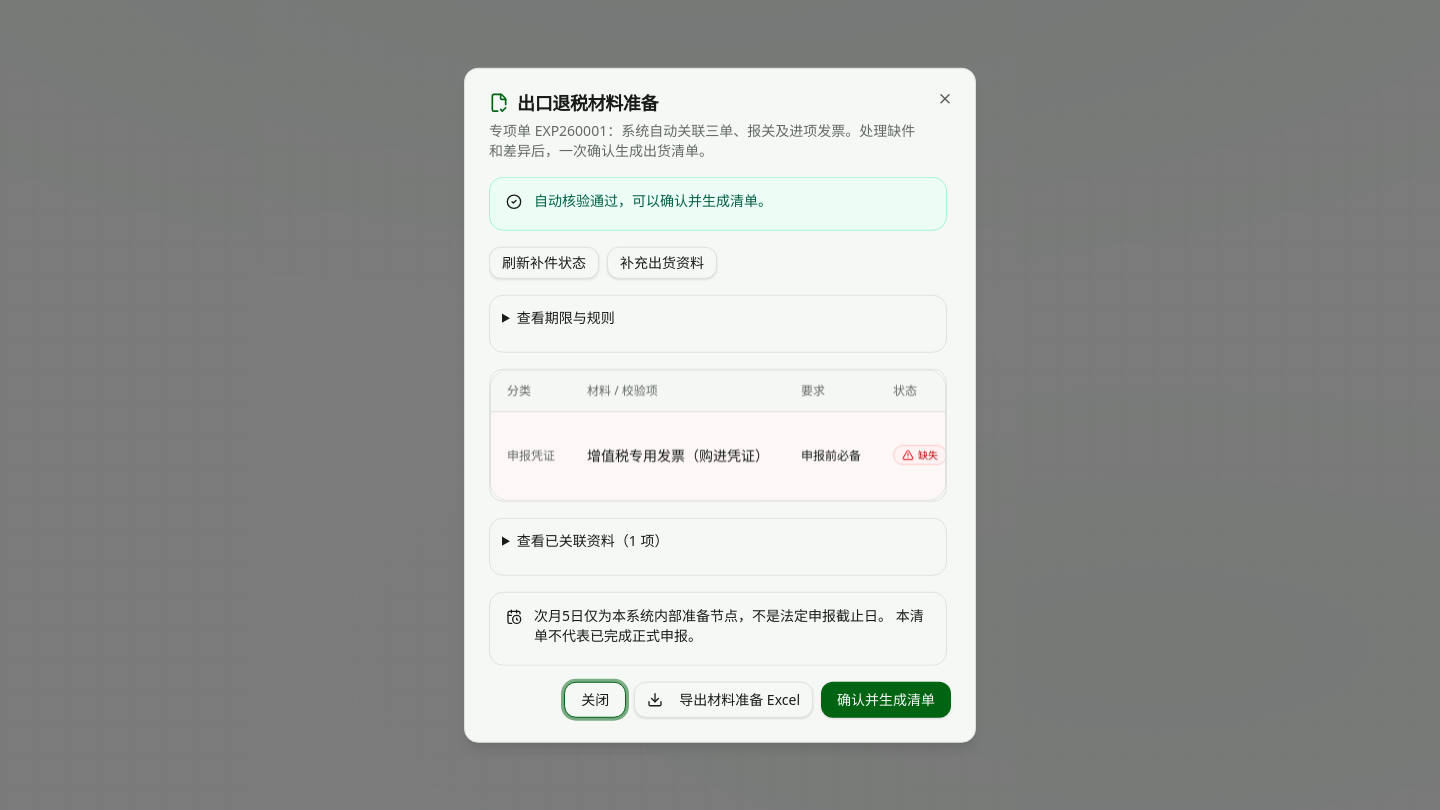
TaxRefundPreparationDialog › 自动核验通过后一次确认并下载；回传版本防止确认旧资料
Click the button "确认并生成清单" at (886, 699), box left=821, top=681, right=951, bottom=717
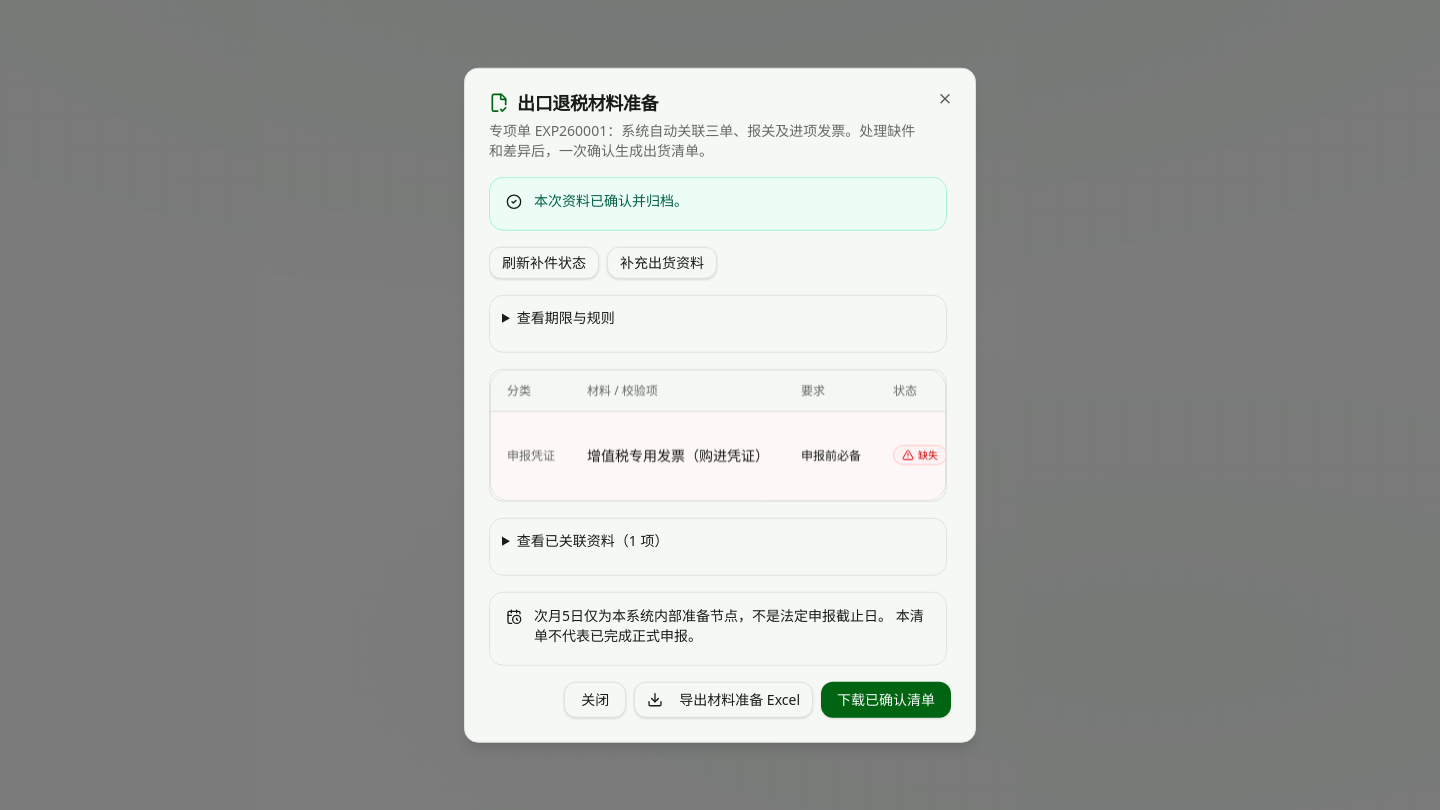
Now the button "下载已确认清单" is shown, box left=821, top=681, right=951, bottom=717
